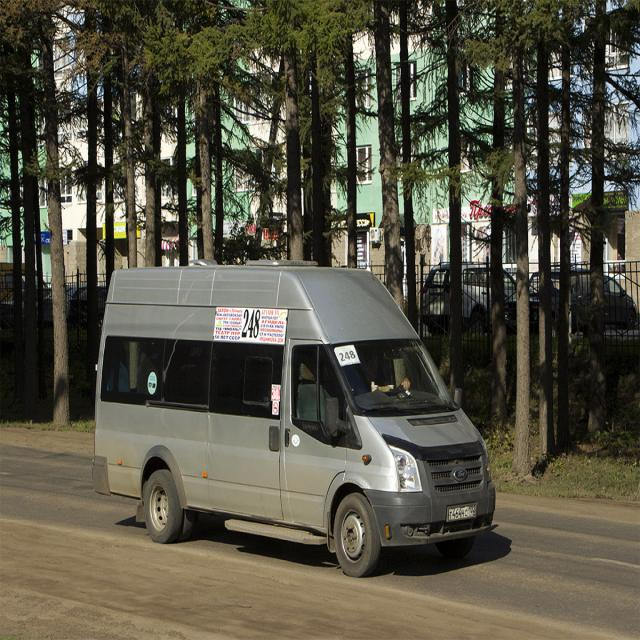number-of-bus: (242, 310, 264, 340), (338, 347, 359, 366)
